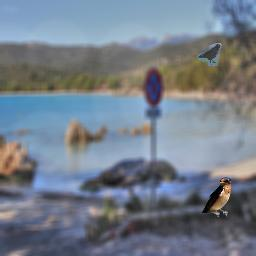Crow: (198, 43, 222, 66)
Swallow: (201, 177, 231, 217)
